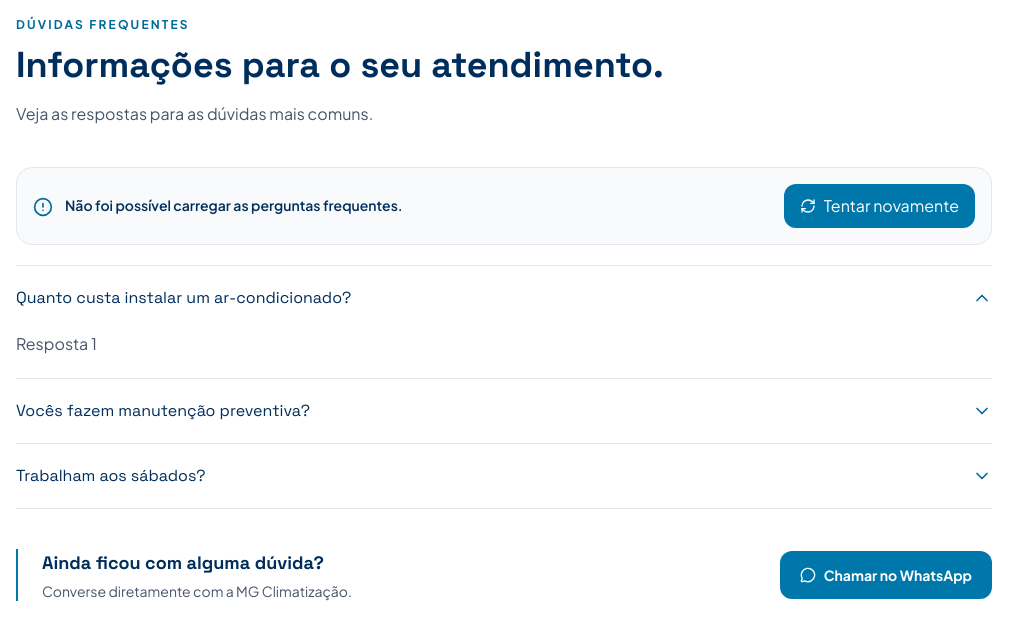
Scenario: FAQ Component › preserva perguntas exibidas após falha e permite tentar novamente
This screenshot has width=1009, height=618.
Expected: the message shows "Não foi possível carregar as perguntas frequentes", [65,196,403,214]
Expected: the text "Quanto custa instalar um ar-condicionado?" is shown, [16,285,351,311]
Click the button "Tentar novamente" at (879, 206), box [784,184,975,228]
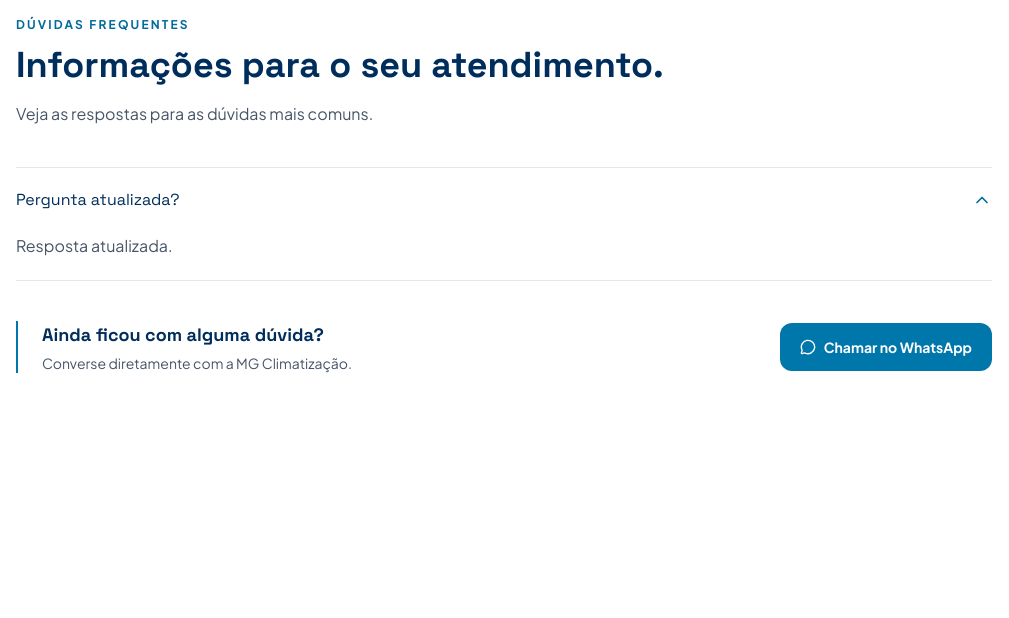
Result: the text "Pergunta atualizada?" is shown at [16,187,180,213]
Result: the message "Não foi possível carregar as perguntas frequentes. Tentar novamente" is gone
